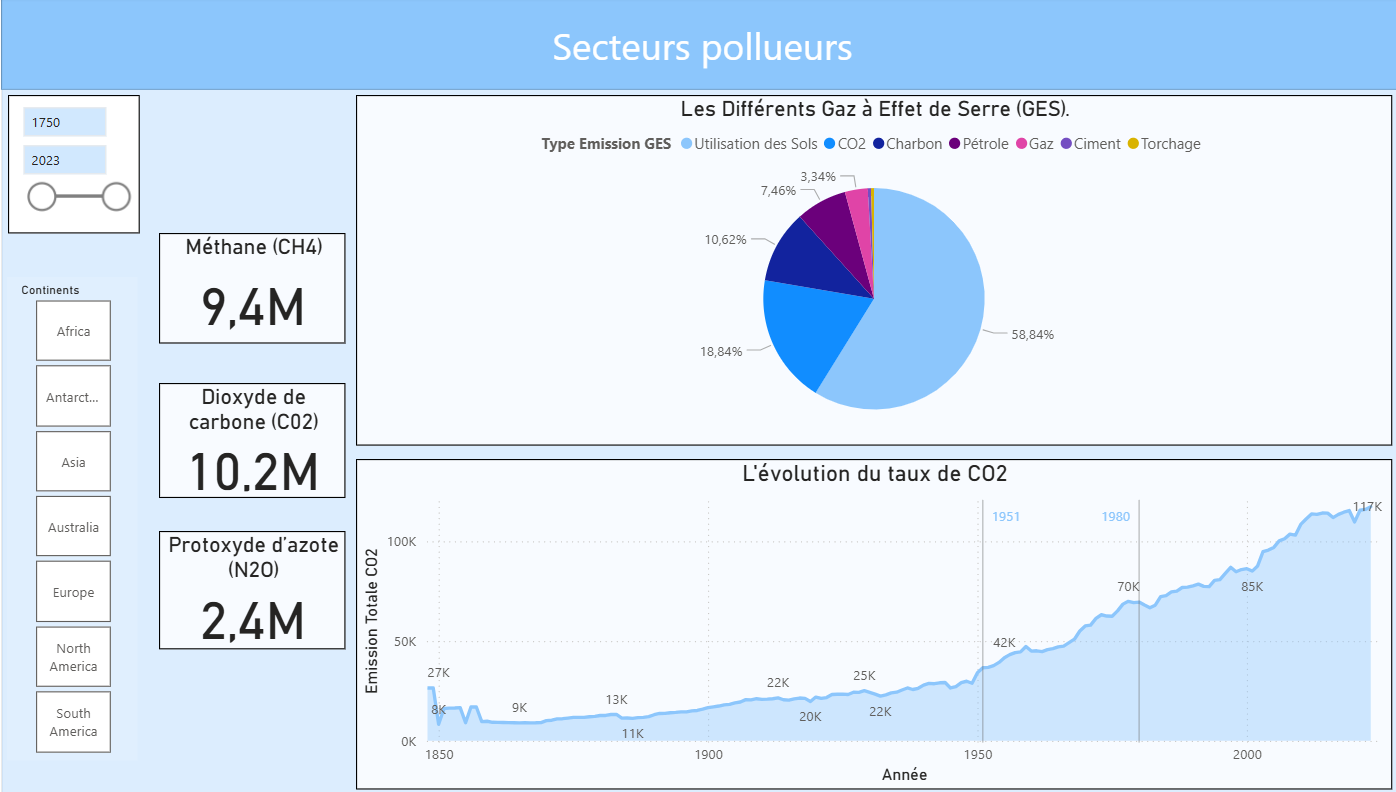

This screenshot's page, from the dashboard's own definition file:
{"tool":"powerbi","page":{"name":"Types émissions","canvas":[1280,720],"ordinal":1},"visuals":[{"type":"pieChart","title":"Les Types d''émissions du CO2","fields":{"Y":["df_continent_temp_terre.Emission Totale CO2"],"Category":["df_continent_temp_terre.Type Emission CO2"]},"box":[362,45.8,918,345.6],"z":0},{"type":"lineChart","title":"L''évolution tu taux de CO2","fields":{"Y":["df_continent_temp_terre.Emission Totale CO2"],"Category":["Calendrier.Année"]},"box":[362,419.6,916.8,285.6],"z":1000},{"type":"card","title":"Emission totale de CH4","fields":{"Values":["Sum(df_continent_temp_terre.Emission Totale CH4)"]},"box":[173.1,53.5,180.9,115.7],"z":4000},{"type":"card","title":"Emission totale de C02","fields":{"Values":["df_continent_temp_terre.Emission Totale CO2"]},"box":[173.1,199.4,180.9,115.7],"z":5000},{"type":"card","title":"Emission totale de N2O","fields":{"Values":["Sum(df_continent_temp_terre.Emission Totale N20)"]},"box":[173.1,360.9,180.9,115.7],"z":6000},{"type":"shape","box":[165.3,0,1114.7,46.7],"z":8000},{"type":"shape","box":[0,0,165.3,720.7],"z":8250},{"type":"slicer","fields":{"Values":["Calendrier.Année"]},"box":[17.5,45.7,140.1,123.5],"z":8500},{"type":"slicer","fields":{"Values":["Continents.Continent"]},"box":[17.5,196.5,140.1,118.7],"z":8501}]}

Visuals, with their boxes in screenshot pixels (x1, y1, x2, y2), scaled from the page's 1280x720 canvas onto the 1396x792 screenshot:
"Les Types d''émissions du CO2" pieChart: Rect(395, 50, 1395, 431)
"L''évolution tu taux de CO2" lineChart: Rect(395, 462, 1395, 776)
"Emission totale de CH4" card: Rect(189, 59, 386, 186)
"Emission totale de C02" card: Rect(189, 219, 386, 347)
"Emission totale de N2O" card: Rect(189, 397, 386, 524)
shape: Rect(180, 0, 1395, 51)
shape: Rect(0, 0, 180, 791)
slicer - Calendrier.Année: Rect(19, 50, 172, 186)
slicer - Continents.Continent: Rect(19, 216, 172, 347)
